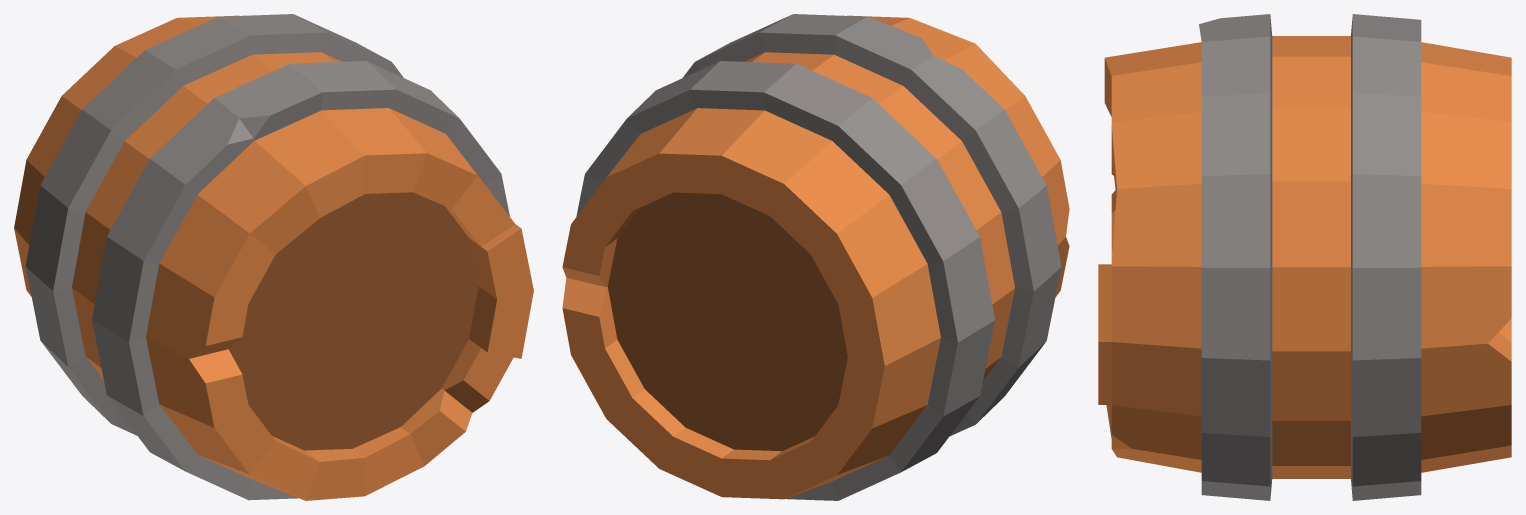
File: Barrel.fbx
3 renders of one model, left to right at view 1: azimuth 30°, elevation 25°; view 2: azimuth 150°, elevation 25°; view 3: azimuth 270°, elevation 25°, orthographic. The views are drawn at different scales.
Parts seen in each view (by area): view 1: Barrel; view 2: Barrel; view 3: Barrel.
Boxes of the visible parts, x1,y1,x2,y2 form: Barrel: (14, 14, 533, 500); Barrel: (562, 14, 1069, 500); Barrel: (1098, 14, 1511, 500).
Size of the model in its own units: 244 by 244 by 207.
